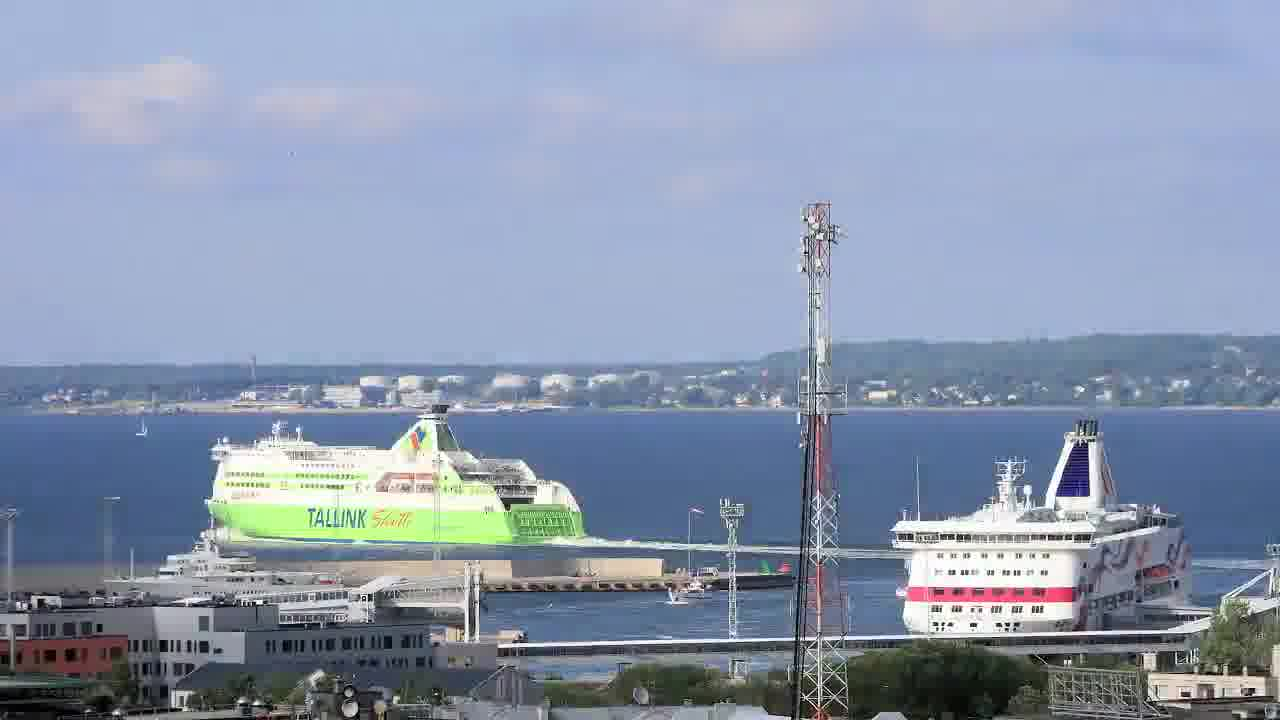type-0: (658, 559, 717, 608)
type-2: (116, 402, 162, 456)
type-3: (868, 415, 1225, 638), (324, 401, 755, 554), (84, 511, 353, 609)
